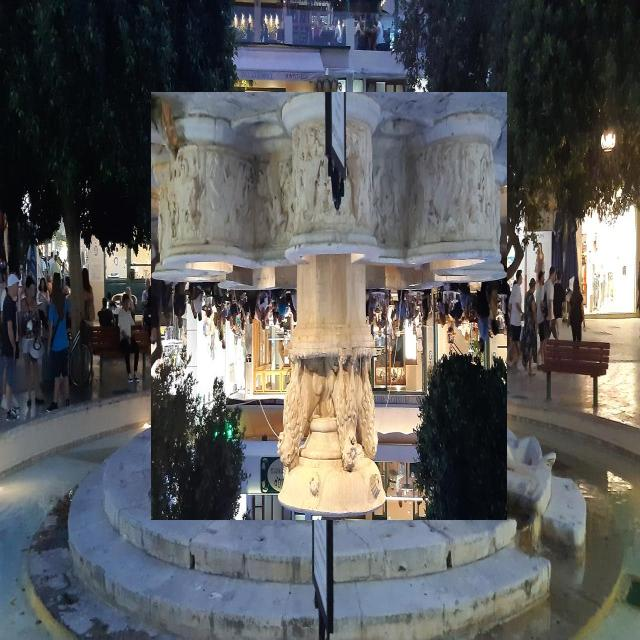Liontaria: (152, 93, 508, 521)
